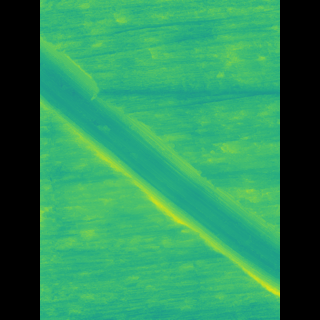Loch: (69, 34, 251, 297)
